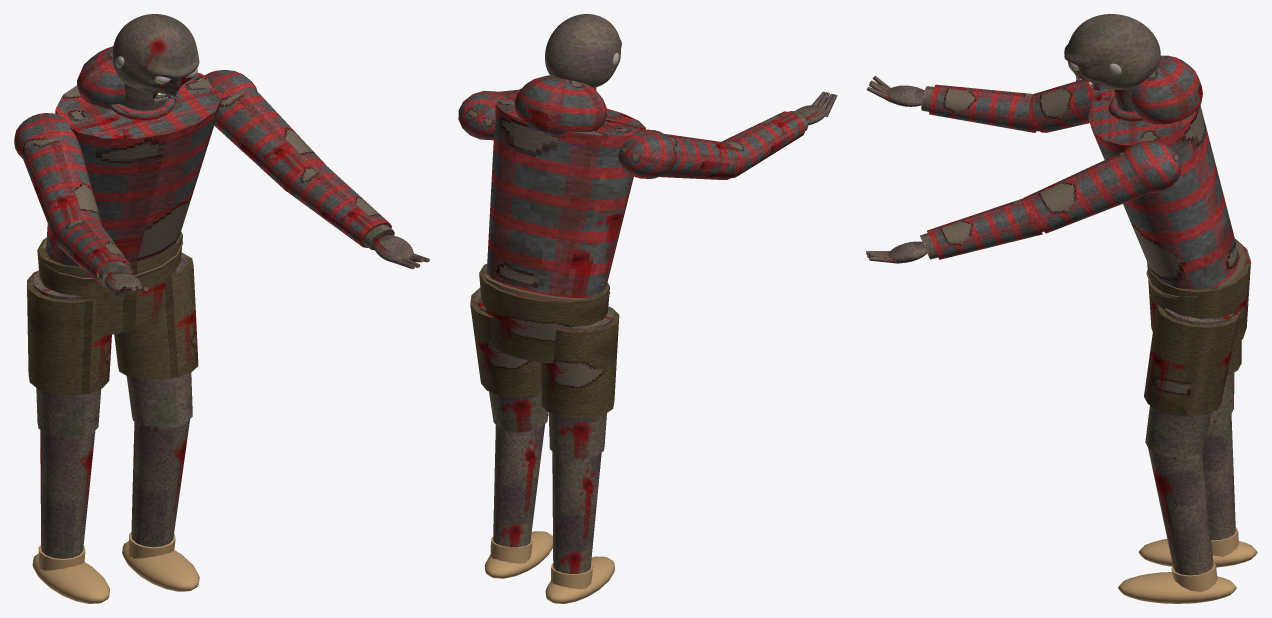
Rendered from Zombie_106.glb.
The picture shows the model from 3 angles, left to right: view 1: azimuth 30°, elevation 25°; view 2: azimuth 150°, elevation 25°; view 3: azimuth 270°, elevation 25°; orthographic projection. The views are drawn at different scales.
Parts seen in each view (by area): view 1: Zombie_106, object 18, object 12, object 4, object 13; view 2: Zombie_106, object 18, object 4; view 3: Zombie_106, object 18, object 12, object 4, object 5, object 13.
Boxes of the visible parts, x1,y1,x2,y2 form: Zombie_106: (14,46,324,603); object 18: (112,14,199,96); object 12: (286,163,391,247); object 4: (54,219,133,287); object 13: (373,235,413,262); Zombie_106: (458,75,742,603); object 18: (545,14,621,87); object 4: (721,111,805,177); Zombie_106: (1023,55,1257,603); object 18: (1064,14,1160,89); object 12: (927,198,1042,259); object 4: (929,84,1035,132); object 5: (886,85,924,106); object 13: (888,241,927,263).
Bounding box in the file's own units: 0.88 × 1.65 × 1.04.
15 materials, 5 textured.
